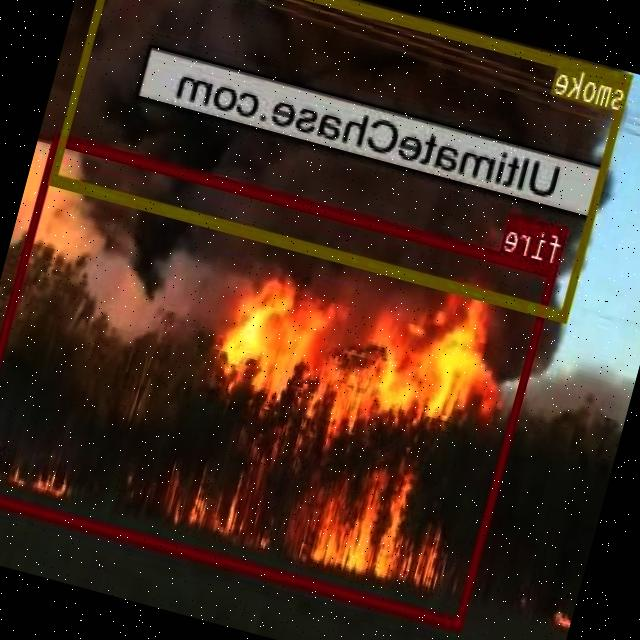fire: (0, 132, 558, 629)
smoke: (49, 0, 634, 321)
